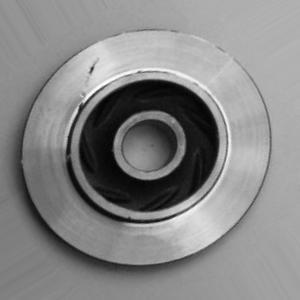defect: (63, 45, 109, 125)
